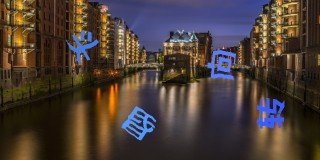向: (207, 49, 237, 81)
头: (66, 30, 98, 65)
昏: (121, 106, 156, 141)
转: (256, 97, 285, 129)
